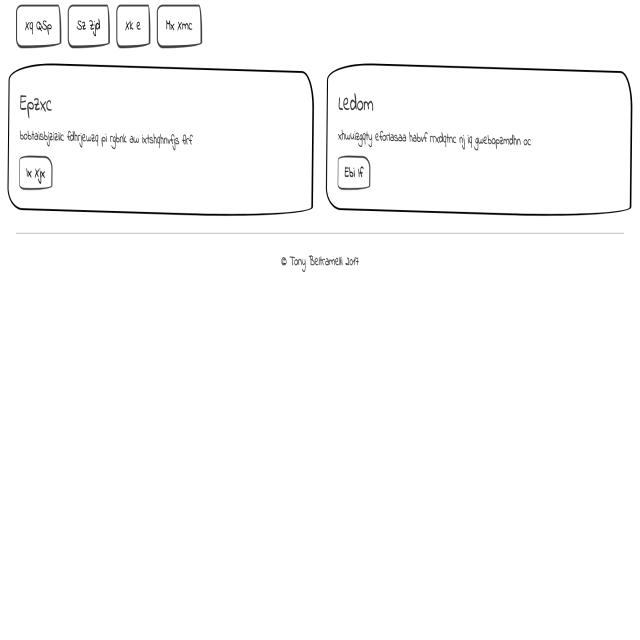Button: (19, 152, 52, 193), (337, 159, 370, 191)
Card: (8, 66, 312, 216), (327, 67, 632, 214)
Footer: (0, 235, 638, 640)
Heading 6: (336, 91, 376, 118), (18, 91, 52, 122)
Navigation Bar: (14, 0, 205, 50)
Paragraph: (336, 123, 534, 153), (15, 127, 197, 147)
